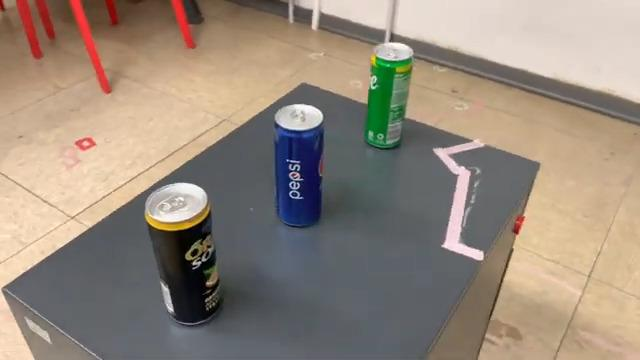OranSoda: (140, 180, 228, 330)
Pepsi: (271, 101, 327, 233)
Sprite: (359, 39, 417, 155)
